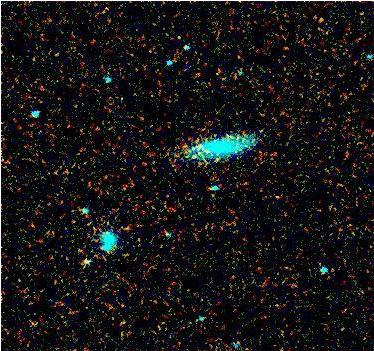star: (186, 134, 216, 164)
